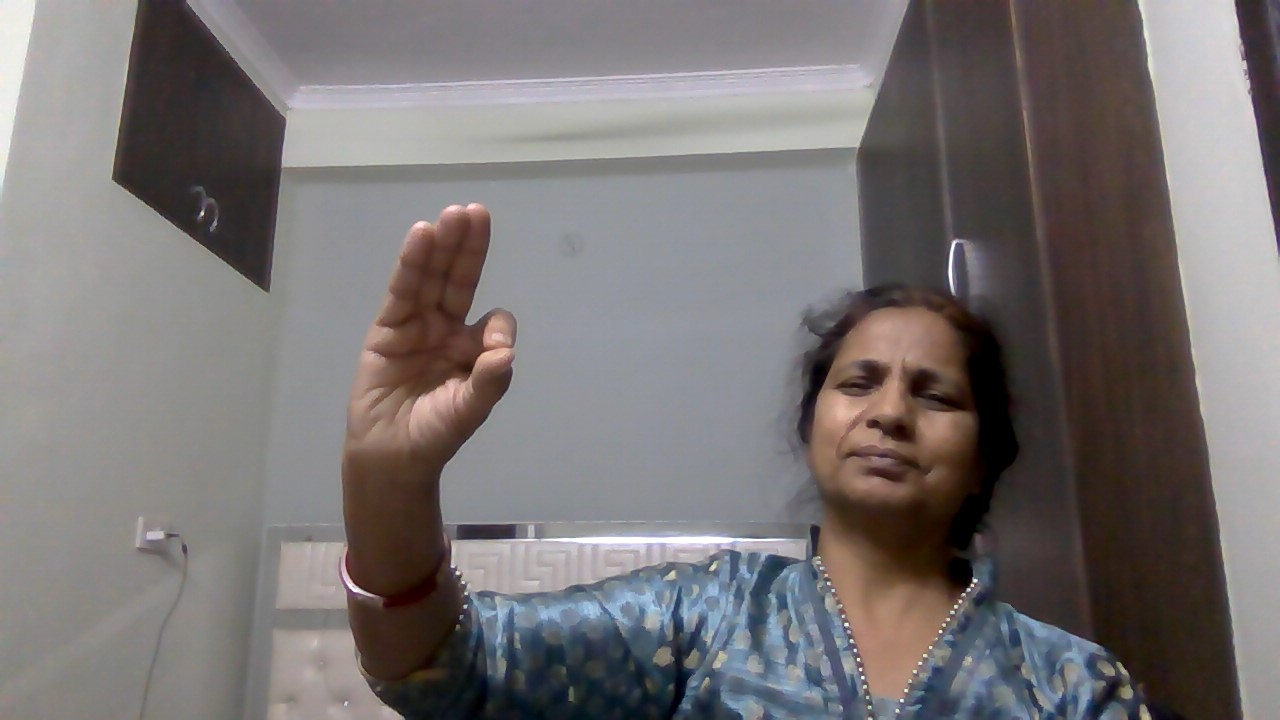Copy: (330, 195, 560, 493)
